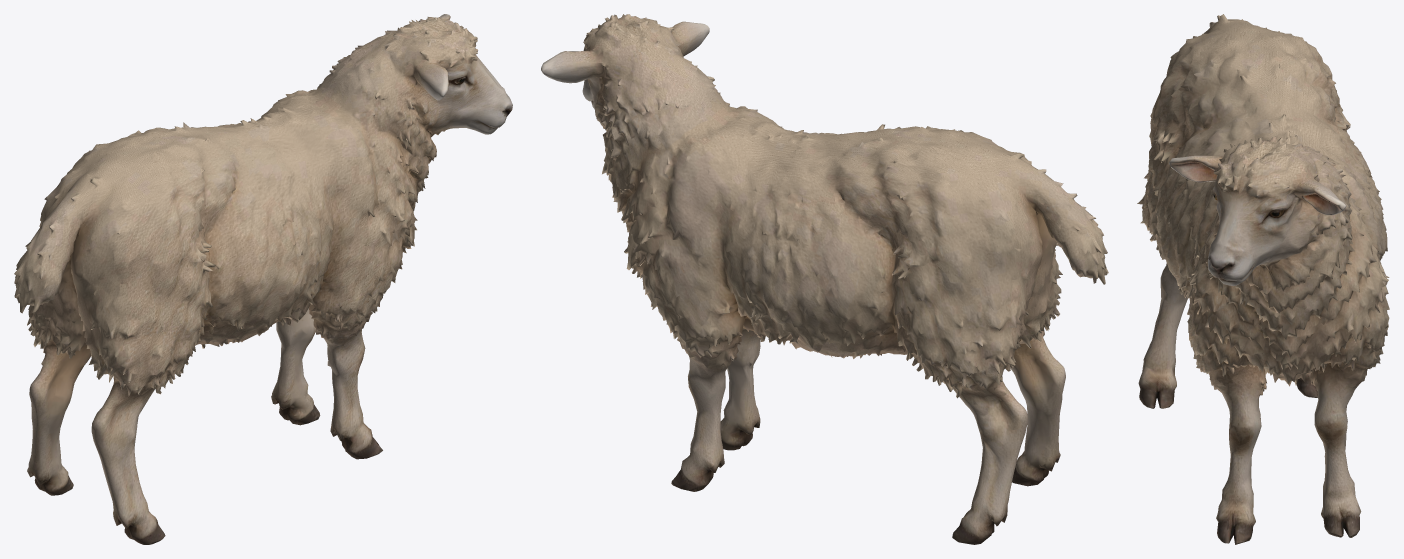
3 renders of one model, left to right at view 1: azimuth 30°, elevation 25°; view 2: azimuth 150°, elevation 25°; view 3: azimuth 270°, elevation 25°, orthographic. The views are drawn at different scales.
Visible parts, largest first — view 1: tripo_node_9df2af1e-55f7-43af-899d-1ae42b9cd2b5; view 2: tripo_node_9df2af1e-55f7-43af-899d-1ae42b9cd2b5; view 3: tripo_node_9df2af1e-55f7-43af-899d-1ae42b9cd2b5.
Boxes of the visible parts, x1,y1,x2,y2 form: tripo_node_9df2af1e-55f7-43af-899d-1ae42b9cd2b5: [14, 14, 512, 544]; tripo_node_9df2af1e-55f7-43af-899d-1ae42b9cd2b5: [541, 14, 1108, 544]; tripo_node_9df2af1e-55f7-43af-899d-1ae42b9cd2b5: [1137, 14, 1389, 544].
Bounding box in the file's own units: 1 × 0.7671 × 0.403.
1 material, 1 textured.
